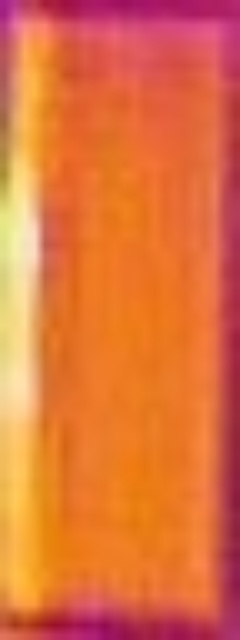Diode: (1, 93, 44, 612)
